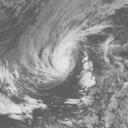cyclone: (27, 27, 79, 87)
